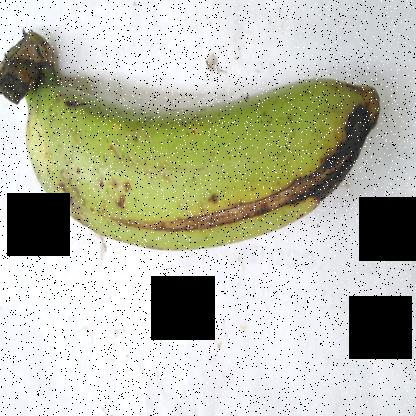unripe: (14, 41, 277, 261)
